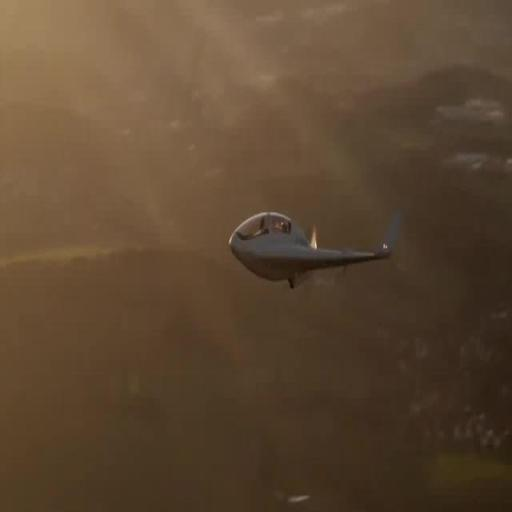uav: (226, 194, 409, 300)
